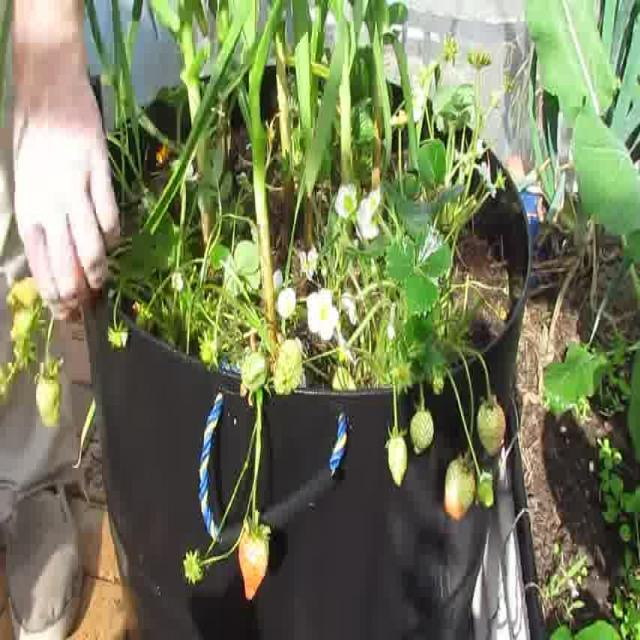Fruta sana: (238, 510, 271, 600), (477, 392, 508, 460), (36, 361, 62, 427), (274, 338, 302, 394), (12, 300, 44, 340), (6, 276, 39, 310), (241, 350, 267, 392), (476, 470, 495, 510), (14, 335, 36, 367), (332, 365, 358, 392), (186, 546, 202, 584), (136, 300, 156, 328), (0, 361, 12, 404), (192, 556, 206, 587), (432, 370, 444, 395)
Moho gris: (444, 449, 474, 522), (385, 426, 408, 487), (410, 408, 434, 456)
